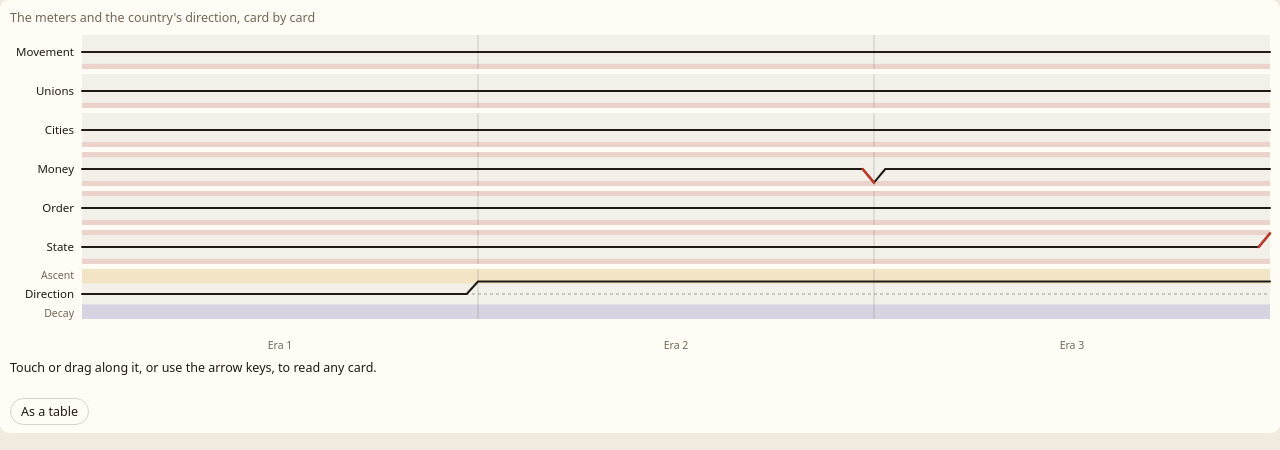
Scenario: the chart › shows the table: where each era left each meter and the direction, in words, and goes back
Click the button "As a table" at (50, 412), box [10, 398, 89, 425]
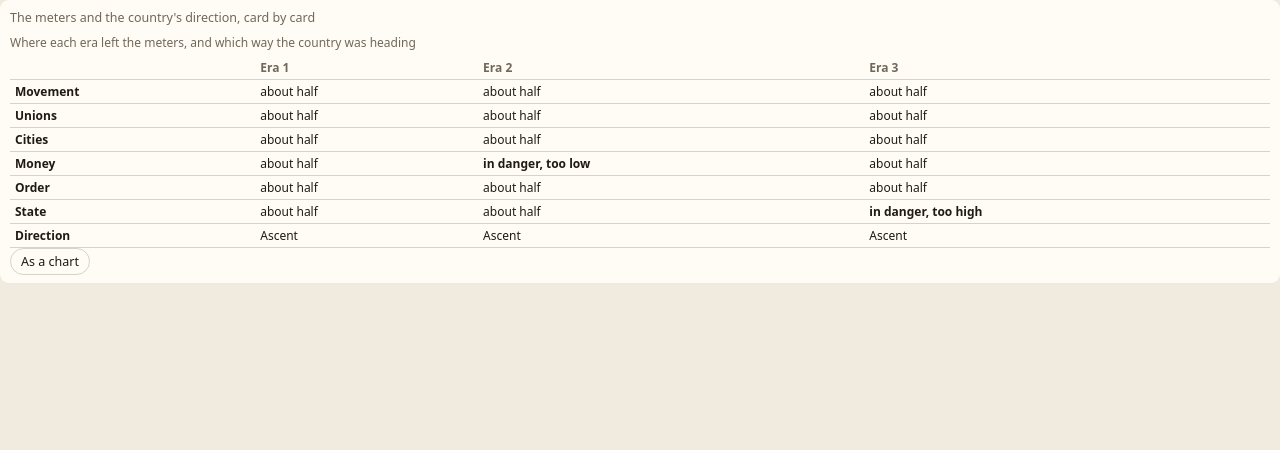
Expected: the slider is gone
Expected: the cell "in danger, too low" is shown, [478, 152, 864, 176]
Click the button "As a chart" at (50, 262), box [10, 248, 90, 276]
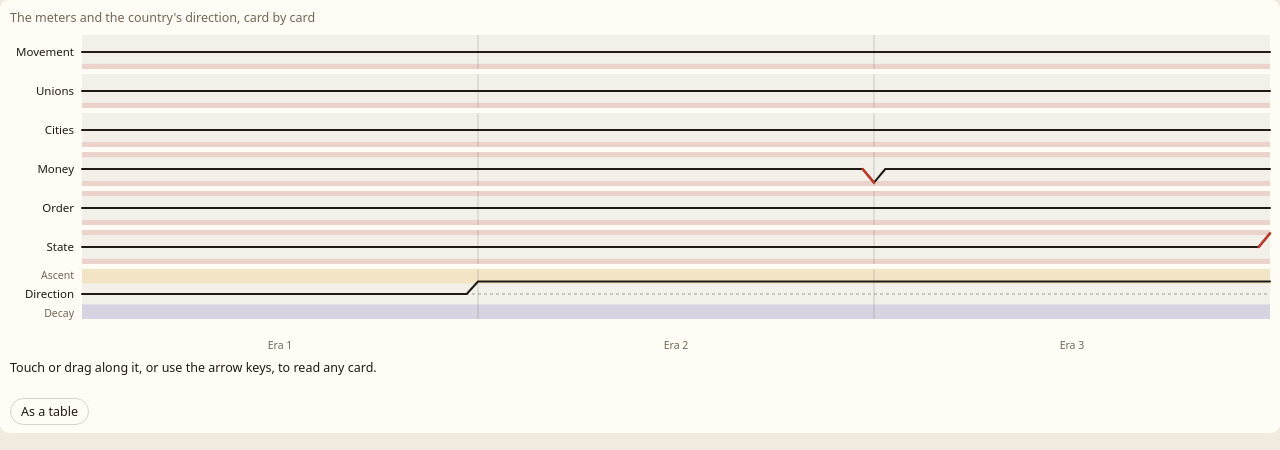
Expected: the slider is shown
